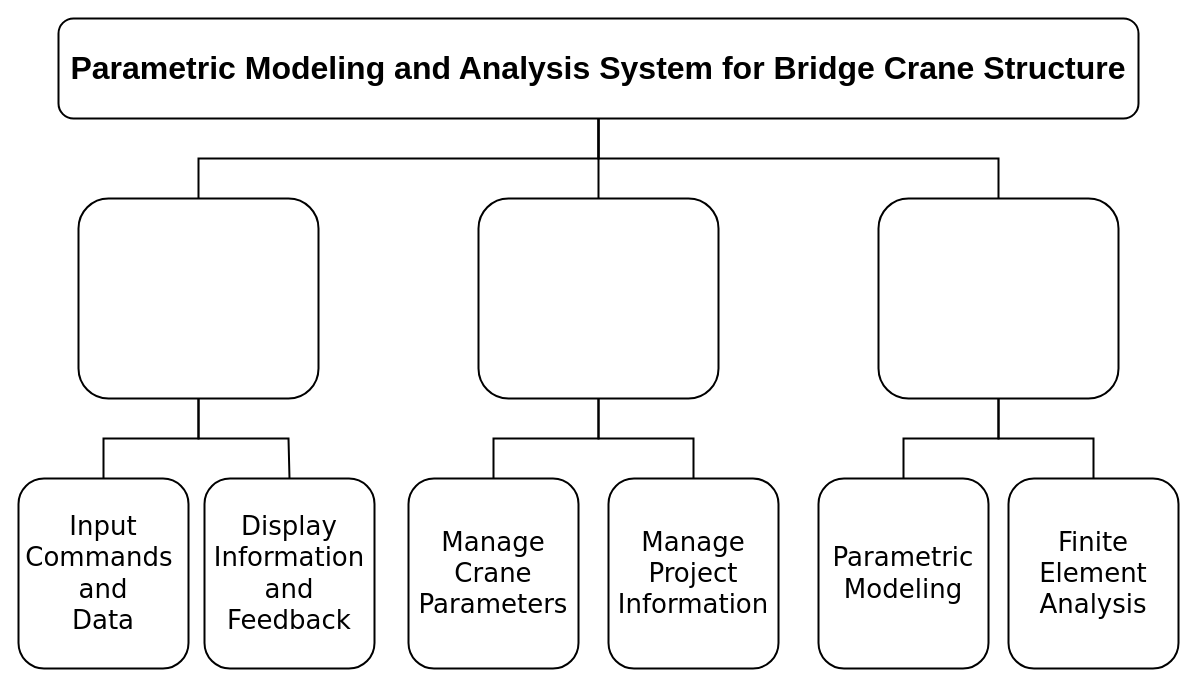
The diagram is 1196 pixels wide and 686 high, and some of its shapes have lost their labels. Each missing label, with the centre of its shape:
Calculation processing module: (x=998, y=298)
Data management module: (x=598, y=298)
Information interaction module: (x=198, y=298)
